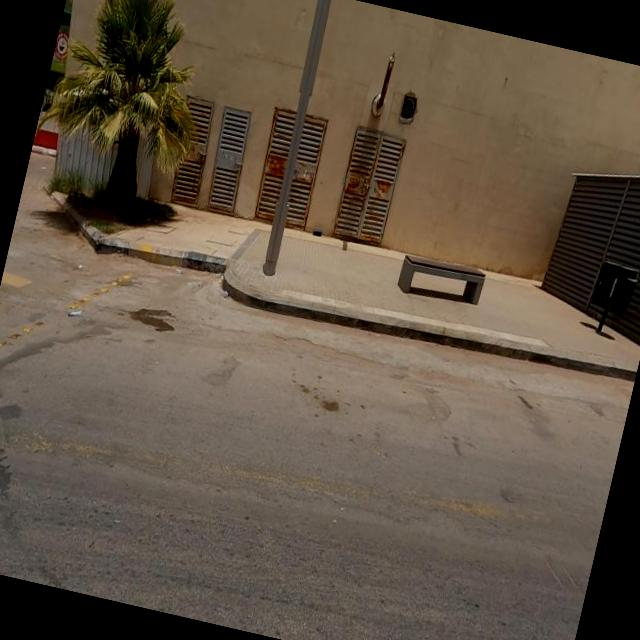debris: (34, 260, 120, 366)
